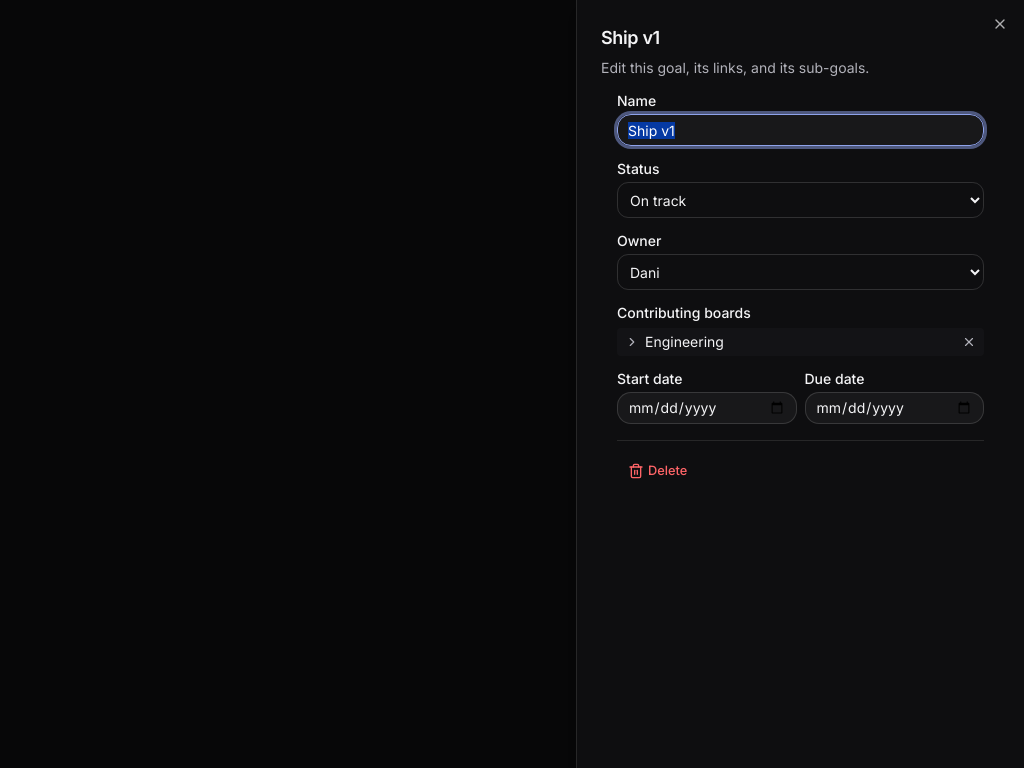
Test: GoalDetailDrawer done-mapping › reverts the edited field and shows an error when updateGoal fails
Step 1. Replace the text in the field showing "Ship v1" with "Ship v2" → (800, 130), box [617, 114, 984, 146]
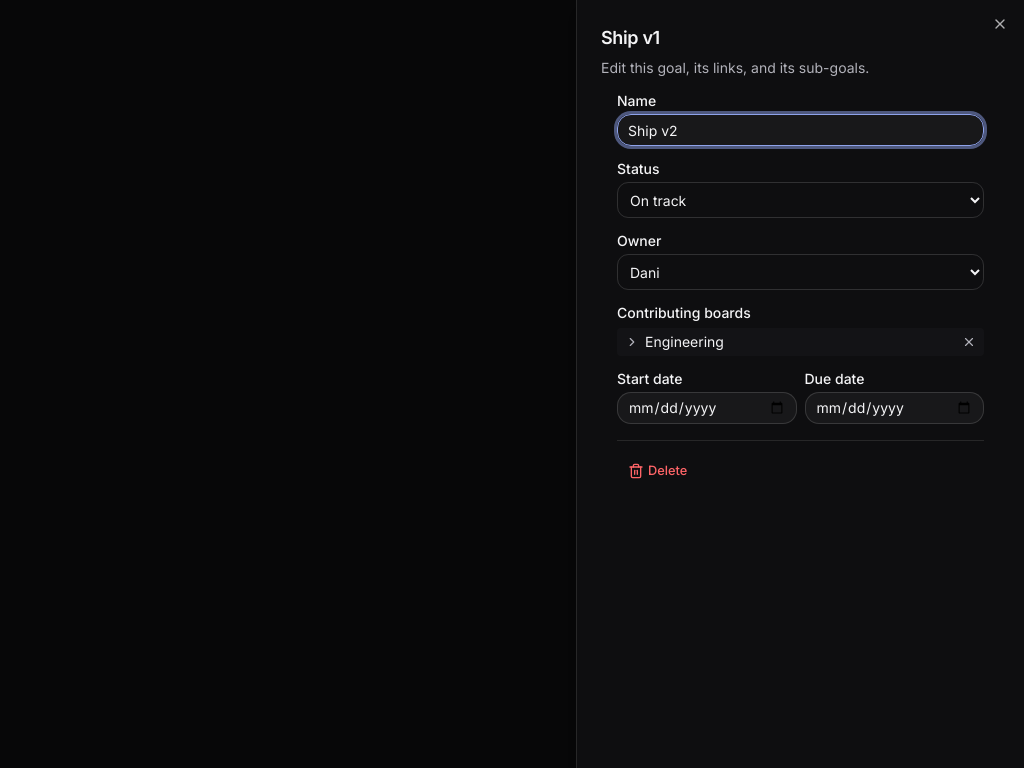
Step 2. Press Tab
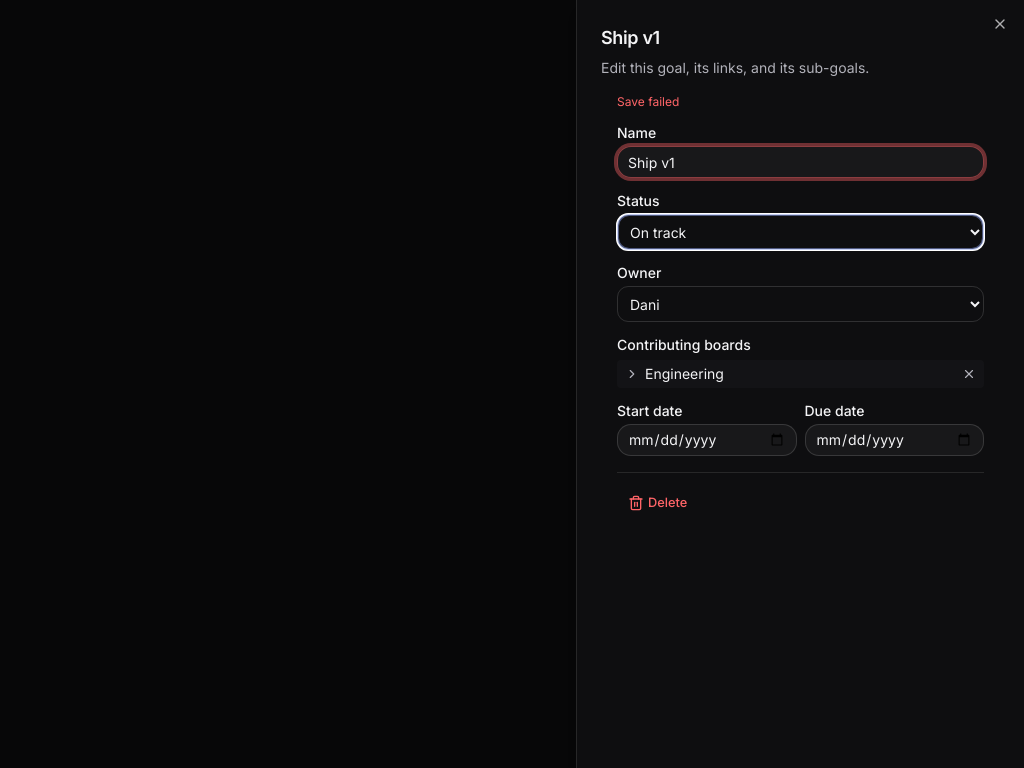
Check: the message reads "Save failed", box [617, 94, 679, 109]
Check: the field showing "Ship v1" is shown, box [617, 146, 984, 178]
